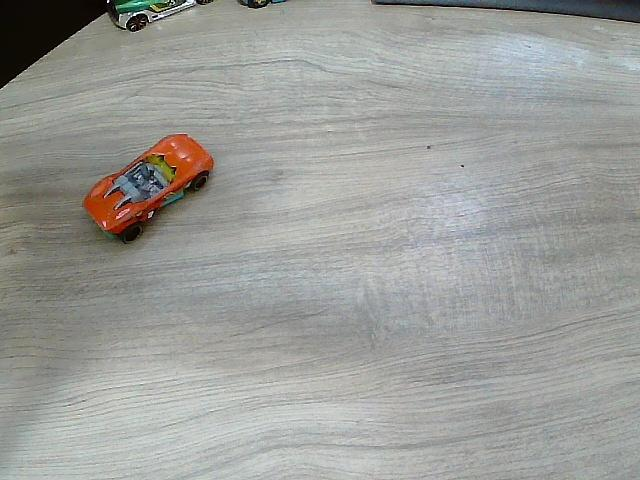Carro: (84, 136, 214, 243), (105, 0, 217, 32)
